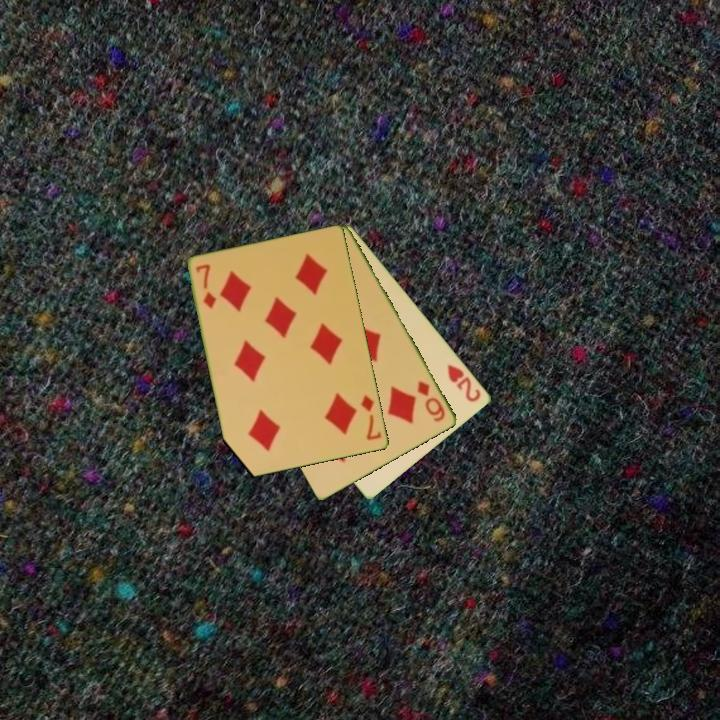2h: (444, 360, 484, 405)
6d: (414, 377, 448, 425)
7d: (192, 261, 220, 311), (358, 392, 385, 443)
